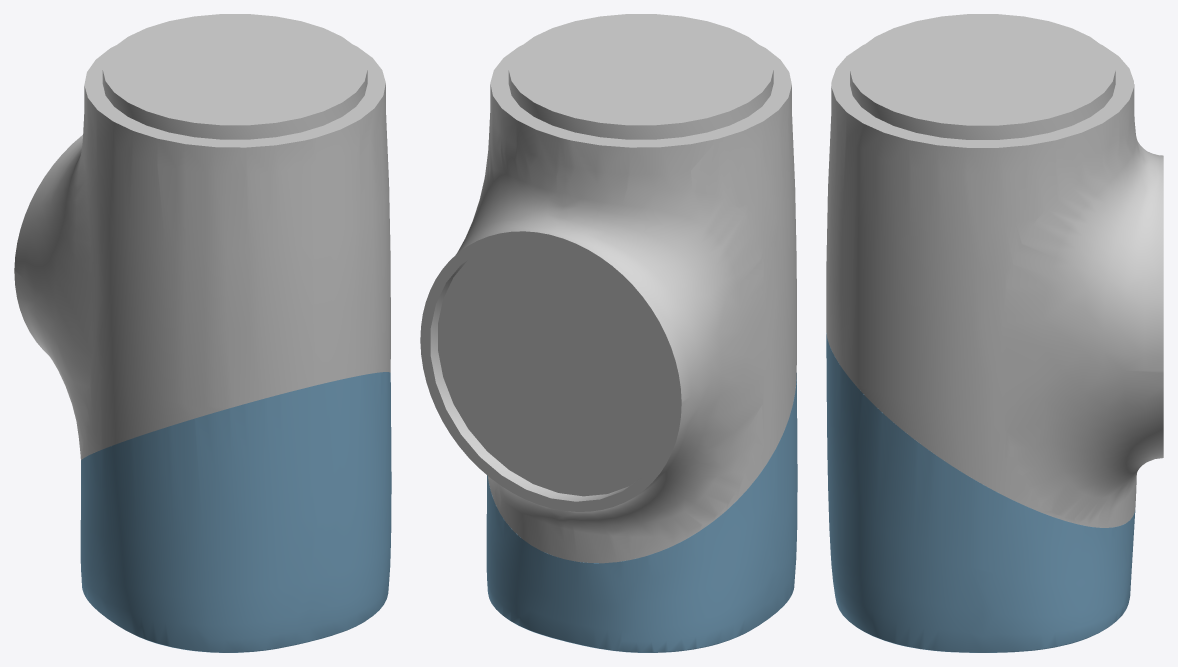
3 renders of one model, left to right at view 1: azimuth 30°, elevation 25°; view 2: azimuth 150°, elevation 25°; view 3: azimuth 270°, elevation 25°, orthographic.
Parts seen in each view (by area): view 1: Link5_001-mesh, Link5_003-mesh; view 2: Link5_001-mesh, Link5_003-mesh; view 3: Link5_001-mesh, Link5_003-mesh.
Part boxes in pixels (left/top/right/bottom): Link5_001-mesh: left=14, top=14, right=390, bottom=459; Link5_003-mesh: left=80, top=372, right=391, bottom=652; Link5_001-mesh: left=420, top=14, right=796, bottom=563; Link5_003-mesh: left=486, top=373, right=797, bottom=652; Link5_001-mesh: left=826, top=14, right=1163, bottom=527; Link5_003-mesh: left=826, top=333, right=1135, bottom=652.
Bounding box in the file's own units: 0.0848 × 0.1588 × 0.0914.
